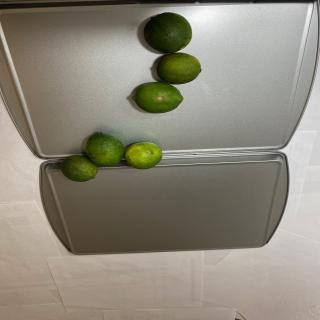Lemon: (143, 12, 192, 53), (132, 82, 183, 114), (156, 52, 201, 85), (85, 132, 125, 166), (124, 142, 162, 170), (61, 155, 98, 182)
